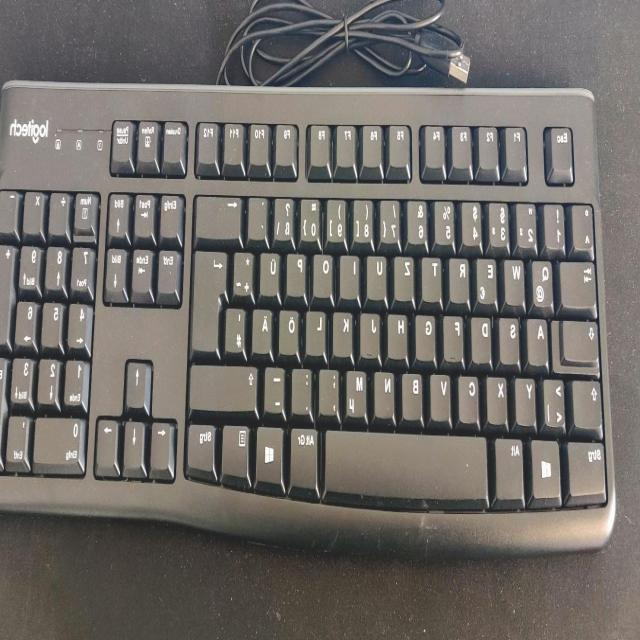0: (302, 193, 322, 242)
1: (546, 198, 568, 247)
2: (518, 197, 540, 247)
3: (490, 196, 512, 246)
4: (464, 196, 484, 244)
5: (436, 194, 458, 244)
6: (408, 194, 430, 243)
7: (382, 194, 403, 242)
8: (354, 193, 376, 243)
9: (328, 193, 348, 242)
a: (529, 313, 551, 363)
accent: (250, 190, 270, 238)
ae: (254, 304, 274, 352)
alt-left: (497, 432, 527, 499)
altgr-right: (291, 423, 321, 490)
b: (404, 367, 426, 418)
c: (460, 370, 482, 421)
caret: (573, 199, 597, 249)
comma: (320, 364, 342, 415)
d: (472, 311, 494, 362)
del: (198, 189, 245, 237)
e: (478, 253, 500, 302)
enter: (193, 245, 231, 351)
f: (445, 310, 466, 360)
g: (417, 310, 439, 359)
h: (390, 309, 410, 357)
hash: (226, 302, 248, 351)
i: (342, 250, 362, 296)
j: (362, 308, 382, 356)
k: (335, 307, 355, 355)
keyboard: (0, 71, 620, 552)
l: (308, 305, 328, 353)
less: (545, 373, 568, 427)
m: (347, 365, 369, 416)
minus: (266, 362, 287, 412)
n: (376, 367, 397, 417)
o: (315, 249, 335, 295)
oe: (281, 305, 301, 353)
p: (289, 248, 309, 294)
plus: (236, 246, 256, 295)
point: (294, 363, 315, 413)
q: (533, 255, 555, 305)
r: (451, 253, 472, 301)
s: (501, 312, 523, 362)
shift-left: (575, 374, 605, 427)
shift-lock: (563, 314, 600, 360)
shift-right: (191, 359, 260, 409)
space: (326, 425, 492, 501)
ss: (276, 192, 296, 240)
strg-left: (569, 436, 609, 496)
strg-right: (189, 419, 219, 470)
t: (424, 252, 444, 300)
tab: (562, 256, 598, 305)
u: (369, 250, 389, 298)
ue: (262, 247, 283, 295)
v: (432, 369, 453, 419)
w: (506, 254, 527, 303)
x: (488, 371, 510, 422)
y: (517, 372, 539, 423)
z: (396, 251, 416, 299)
